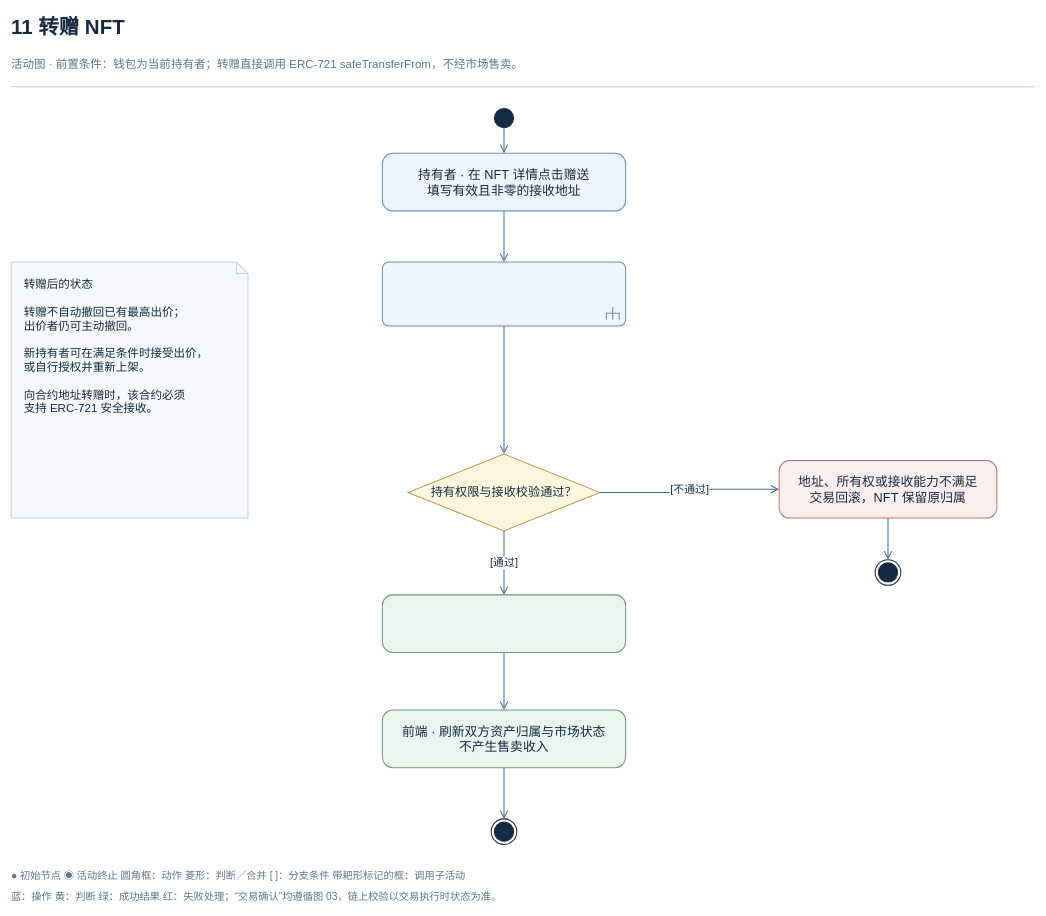
Image size: 1046x916. Some labels were removed from this diagram. Each missing label, with the box of its shape:
NFT 合约 · 更新持有者与所有权版本 原市场挂单随之失效: (382, 594, 626, 653)
提交并确认 safeTransferFrom (当前钱包, 接收地址, id): (382, 261, 626, 326)
